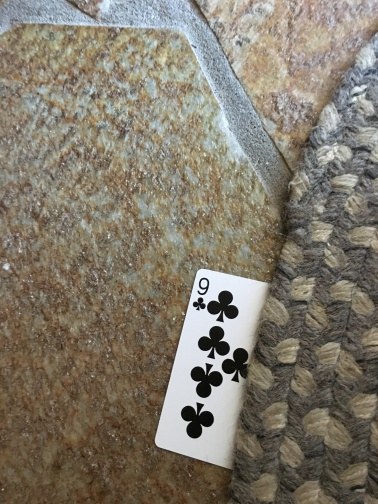nine: (155, 267, 271, 471)
